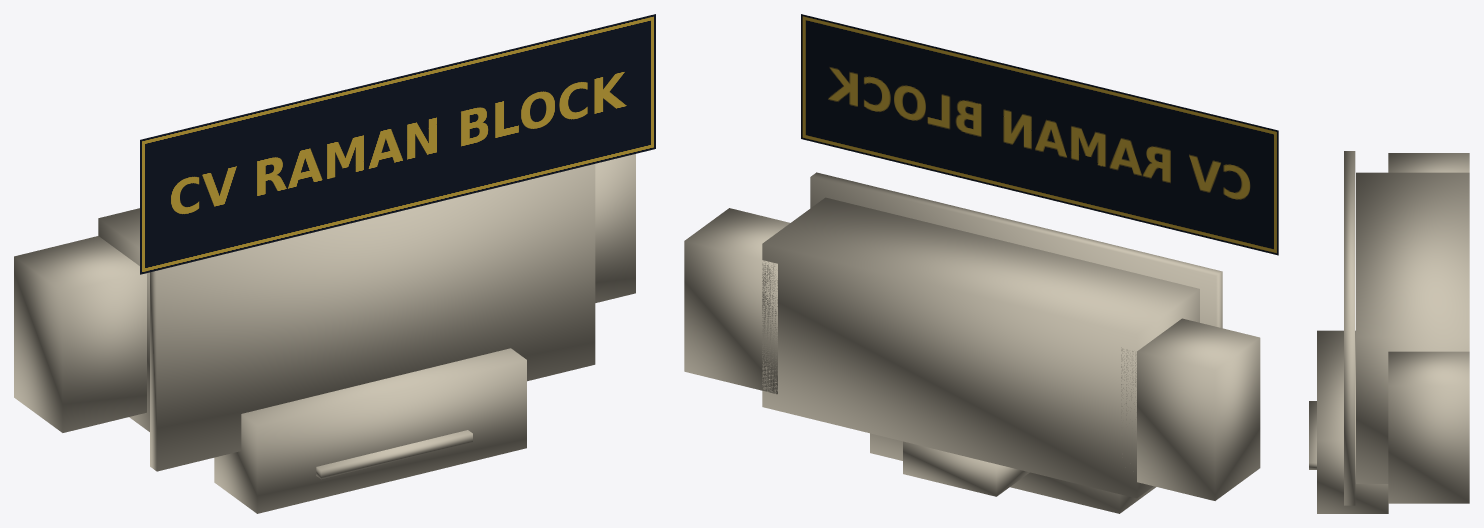
Rendered from cv-raman.glb.
3 renders of one model, left to right at view 1: azimuth 30°, elevation 25°; view 2: azimuth 150°, elevation 25°; view 3: azimuth 270°, elevation 25°, orthographic. The views are drawn at different scales.
Visible parts, largest first — view 1: CVRamanBlock, Sign; view 2: CVRamanBlock, Sign; view 3: CVRamanBlock.
Boxes of the visible parts, box(x1,y1,x2,y2) form: CVRamanBlock: box(14, 154, 635, 513); Sign: box(140, 14, 655, 274); CVRamanBlock: box(684, 172, 1260, 513); Sign: box(801, 14, 1278, 255); CVRamanBlock: box(1309, 151, 1469, 513).
Bounding box in the file's own units: 17 × 11.57 × 5.
1 material, 1 textured.
